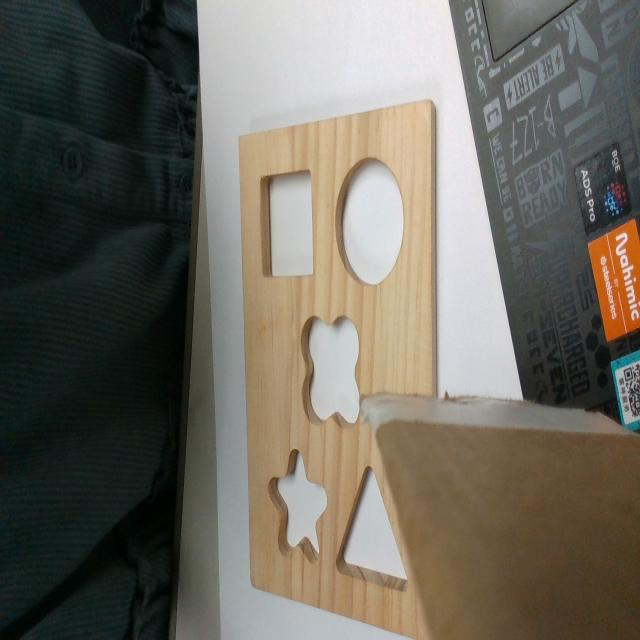circle: (335, 160, 405, 285)
flower: (301, 316, 359, 428)
square: (259, 168, 312, 275)
star: (268, 450, 327, 563)
triangle: (334, 464, 410, 595)
